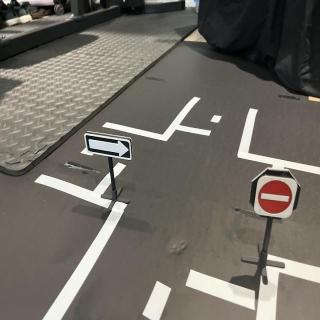sign_noentry: (253, 176, 303, 221)
sign_oneway_right: (84, 131, 136, 161)
